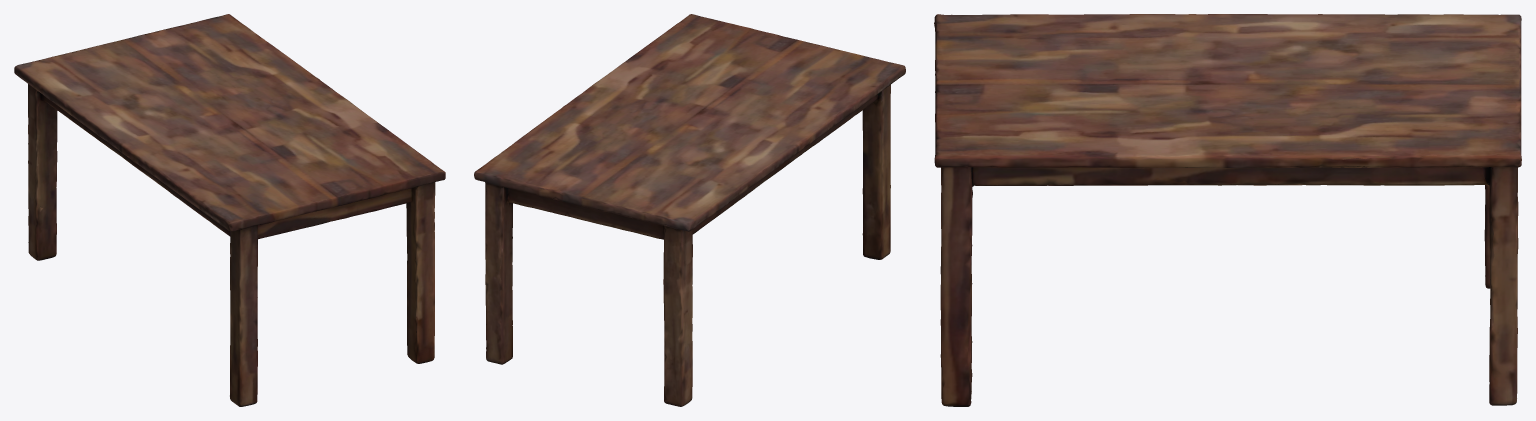
The picture shows the model from 3 angles, left to right: view 1: azimuth 30°, elevation 25°; view 2: azimuth 150°, elevation 25°; view 3: azimuth 270°, elevation 25°; orthographic projection. The views are drawn at different scales.
Parts seen in each view (by area): view 1: Mesh_0; view 2: Mesh_0; view 3: Mesh_0.
Boxes of the visible parts, x1,y1,x2,y2 form: Mesh_0: (14, 14, 445, 406); Mesh_0: (474, 14, 905, 406); Mesh_0: (934, 14, 1521, 406).
Bounding box in the file's own units: 0.9073 × 0.76 × 1.57.
1 material, 1 textured.
